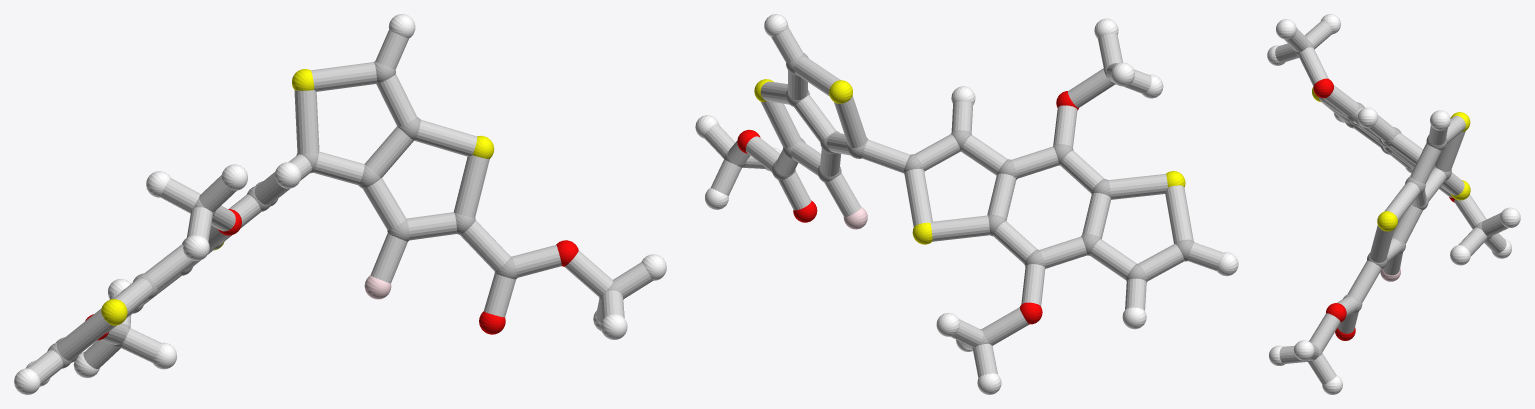
The model's file is color.glb.
3 views of the same model, side by side, from view 1: azimuth 30°, elevation 25°; view 2: azimuth 150°, elevation 25°; view 3: azimuth 270°, elevation 25° (orthographic). The views are drawn at different scales.
Parts seen in each view (by area): view 1: grp15205, grp8689, grp1, grp7241, grp13395; view 2: grp15205, grp8689, grp1, grp7241, grp13395; view 3: grp15205, grp8689, grp1, grp13395, grp7241.
Part boxes in pixels (x1,y1,x2,y2): grp15205: [27, 30, 652, 384]; grp8689: [14, 14, 666, 394]; grp1: [47, 61, 623, 368]; grp7241: [101, 69, 494, 325]; grp13395: [85, 209, 578, 340]; grp15205: [704, 27, 1223, 377]; grp8689: [695, 14, 1238, 394]; grp1: [724, 53, 1194, 348]; grp7241: [754, 79, 1185, 244]; grp13395: [737, 91, 1078, 324]; grp15205: [1275, 21, 1508, 384]; grp8689: [1267, 14, 1520, 394]; grp1: [1294, 40, 1491, 362]; grp13395: [1313, 78, 1454, 340]; grp7241: [1312, 87, 1470, 231].
Size of the model in its own units: 16.15 by 8 by 7.33.
